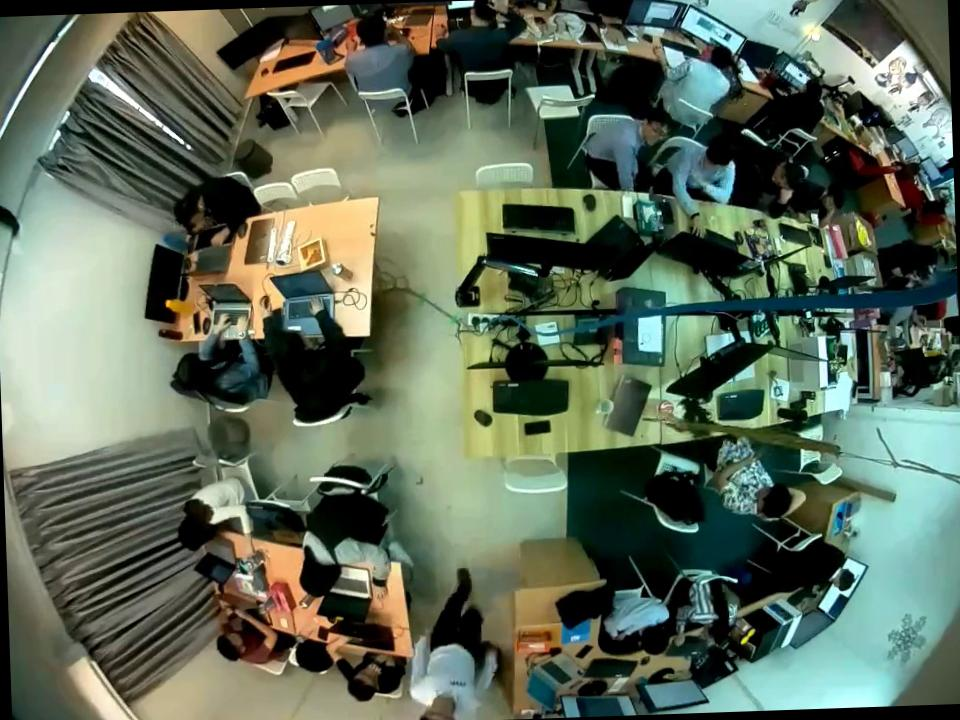employee_tag: (449, 673, 468, 693)
